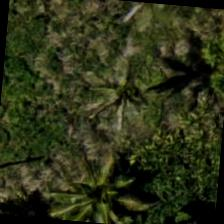Kelapa_Sawit: (33, 157, 130, 223)
